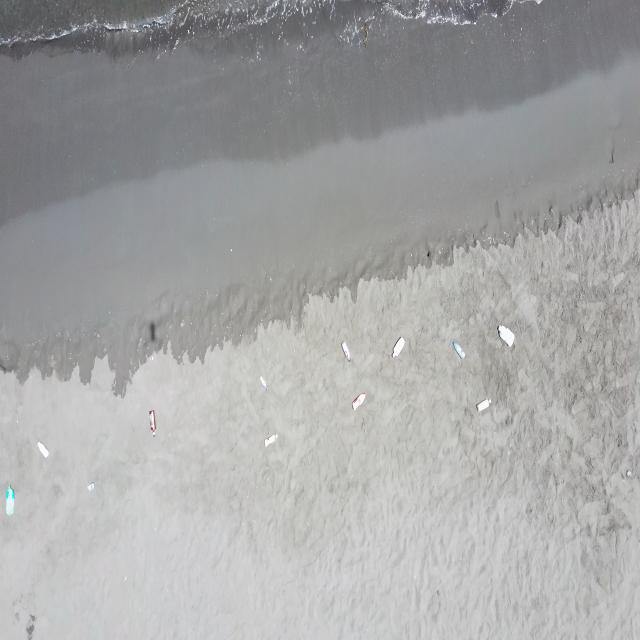Garbage: (497, 324, 512, 346), (4, 484, 13, 515), (392, 337, 404, 356), (475, 397, 491, 411), (148, 409, 156, 435), (352, 392, 364, 409), (452, 340, 464, 357), (36, 440, 47, 457), (263, 433, 276, 447), (340, 342, 350, 360), (260, 375, 266, 390), (87, 482, 94, 491), (624, 468, 631, 476), (123, 575, 127, 580)
